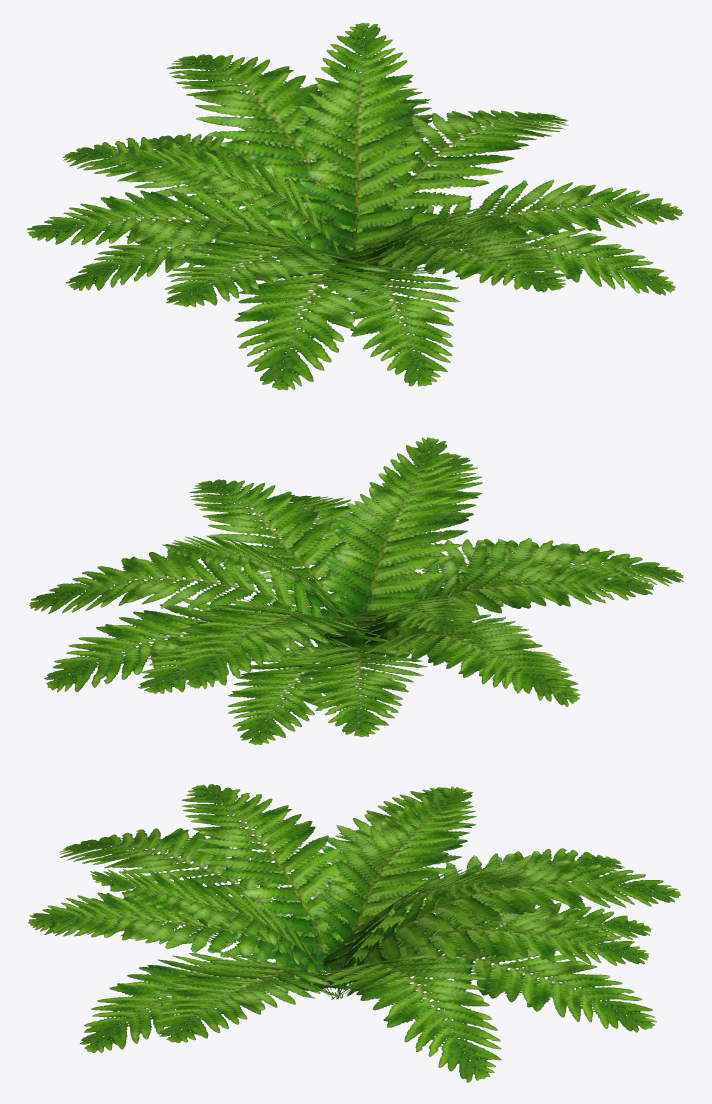
Rendered from fern-cluster.lod0.glb.
The picture shows the model from 3 angles, top to bottom: view 1: azimuth 30°, elevation 25°; view 2: azimuth 150°, elevation 25°; view 3: azimuth 270°, elevation 25°; orthographic projection. The views are drawn at different scales.
Parts seen in each view (by area): view 1: Object_6; view 2: Object_6; view 3: Object_6.
Boxes of the visible parts, <box> form: Object_6: <box>27,22,683,390</box>; Object_6: <box>29,437,683,744</box>; Object_6: <box>28,784,680,1082</box>.
Size of the model in its own units: 2.75 by 0.8001 by 2.86.
Materials: 1 (1 with a texture image).
